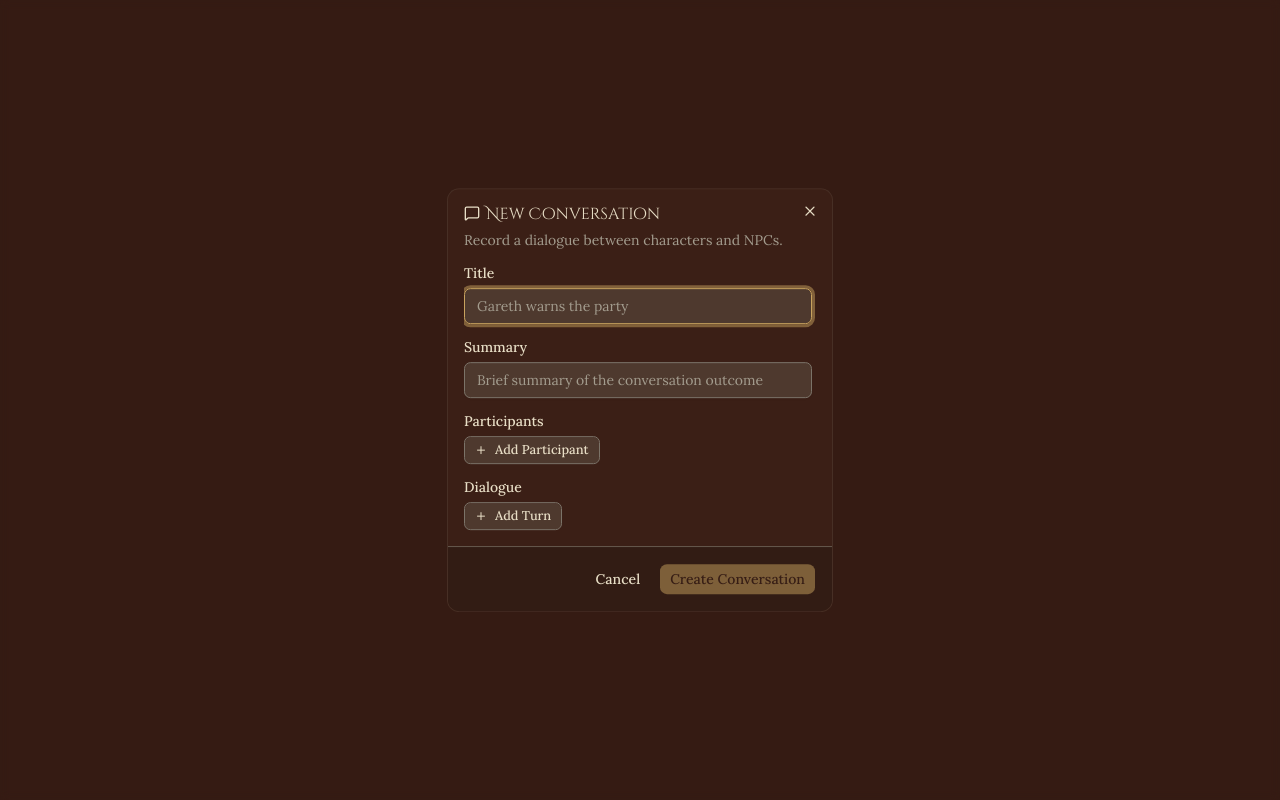
Scenario: ConversationCreate › can add multiple turns
What coordinates should you click on to do the following:
click the button "Add Turn"
I would click on:
 (513, 516)
Its box is [464, 502, 562, 530].
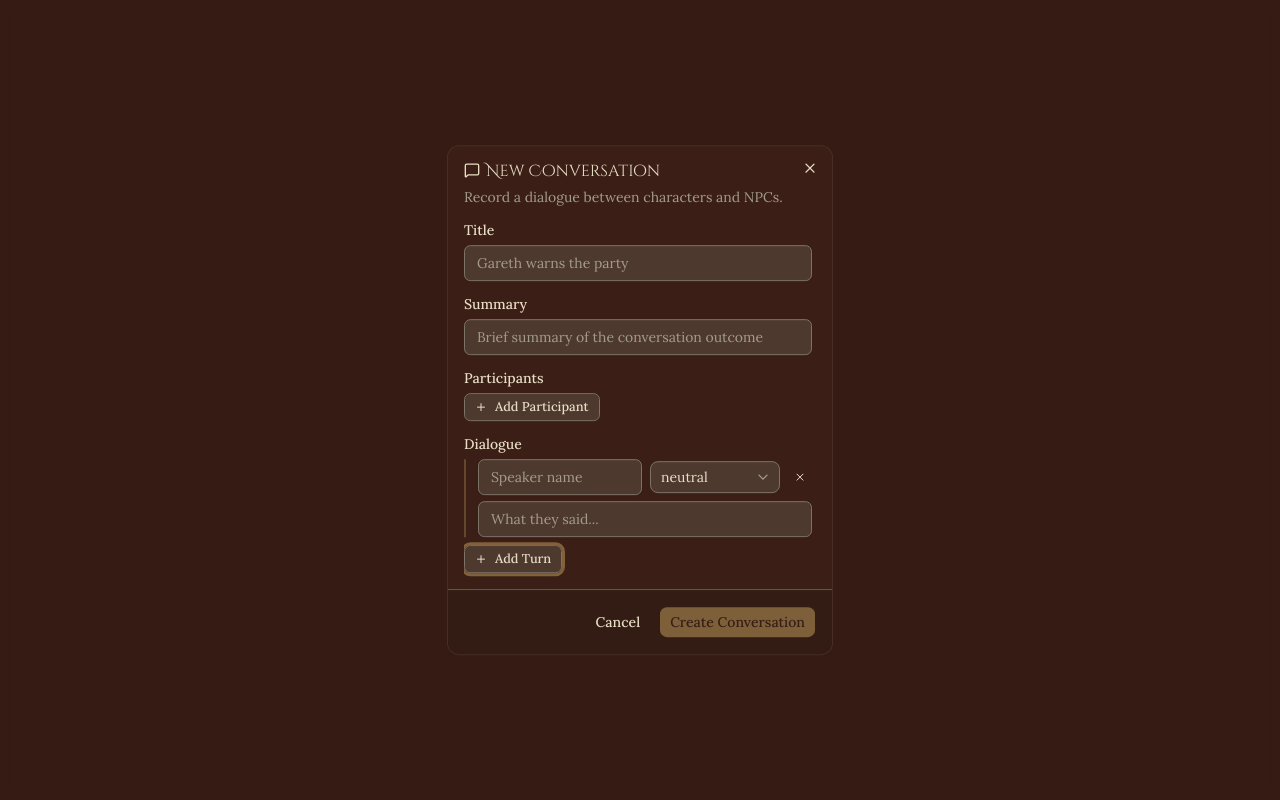
What coordinates should you click on to do the following:
click the button "Add Turn"
I would click on:
 (513, 559)
Its box is [464, 545, 562, 573].
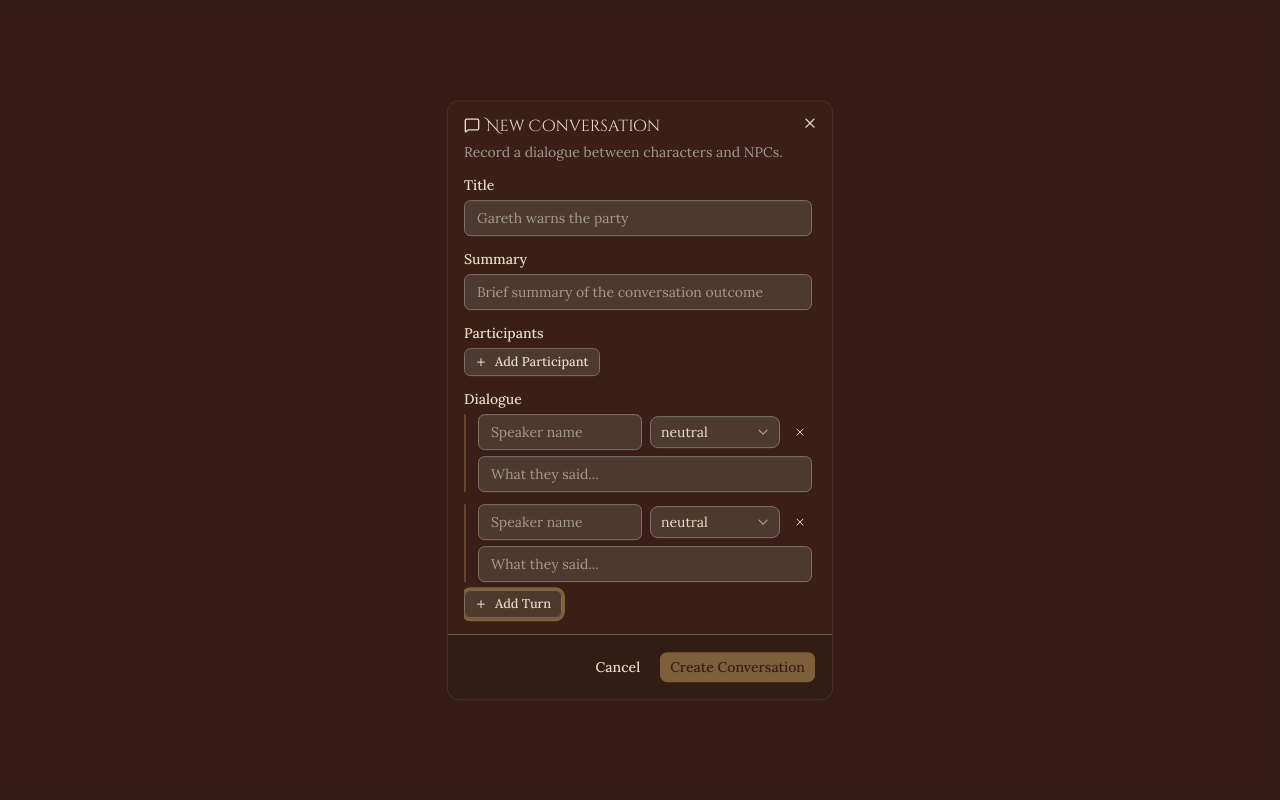
Check: the number of fields with placeholder "Speaker name" is 2, box [478, 414, 642, 450]; [478, 504, 642, 540]
